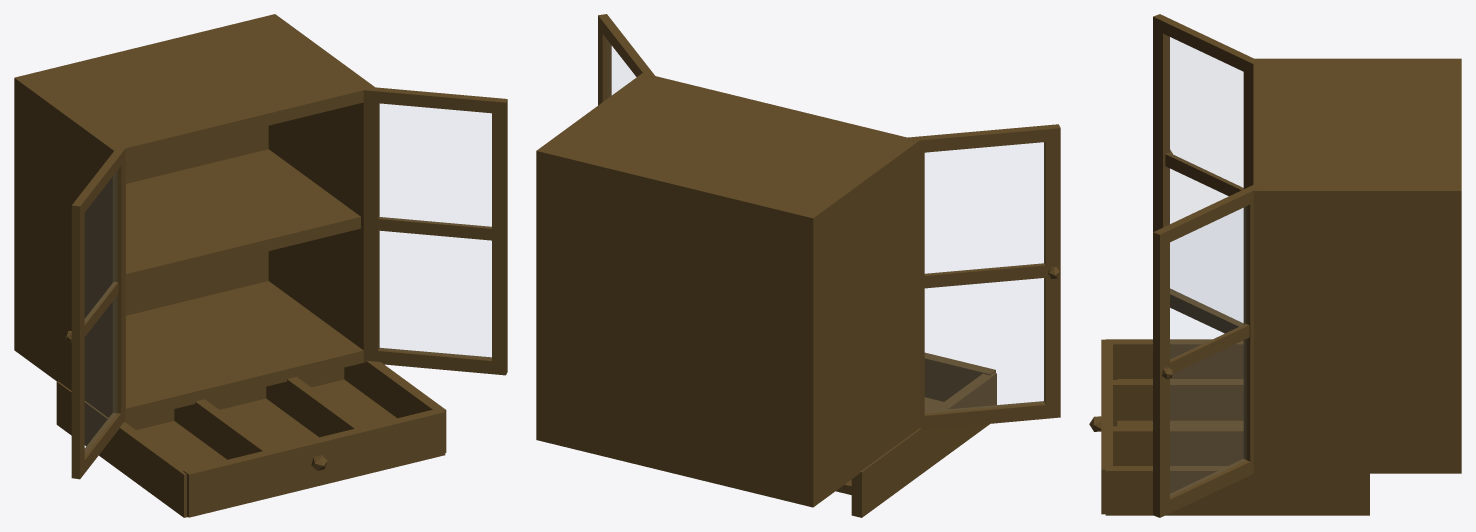
Rendered from cupboard_drawer.fbx.
The picture shows the model from 3 angles, left to right: view 1: azimuth 30°, elevation 25°; view 2: azimuth 150°, elevation 25°; view 3: azimuth 270°, elevation 25°; orthographic projection. The views are drawn at different scales.
Parts seen in each view (by area): view 1: cupboard, drawer, shelf, door_r, door_l; view 2: cupboard, door_l, drawer, door_r; view 3: cupboard, drawer, door_r, door_l.
Boxes of the visible parts, x1,y1,x2,y2 form: cupboard: [14, 14, 374, 420]; drawer: [56, 360, 446, 517]; shelf: [126, 149, 360, 285]; door_r: [363, 86, 507, 375]; door_l: [65, 147, 125, 479]; cupboard: [536, 73, 919, 507]; door_l: [908, 124, 1060, 429]; drawer: [836, 352, 996, 517]; door_r: [598, 14, 654, 105]; cupboard: [1253, 58, 1461, 473]; drawer: [1089, 339, 1369, 515]; door_r: [1153, 185, 1259, 517]; door_l: [1153, 14, 1259, 340].
Bounding box in the file's own units: 1010 × 690 × 714.
